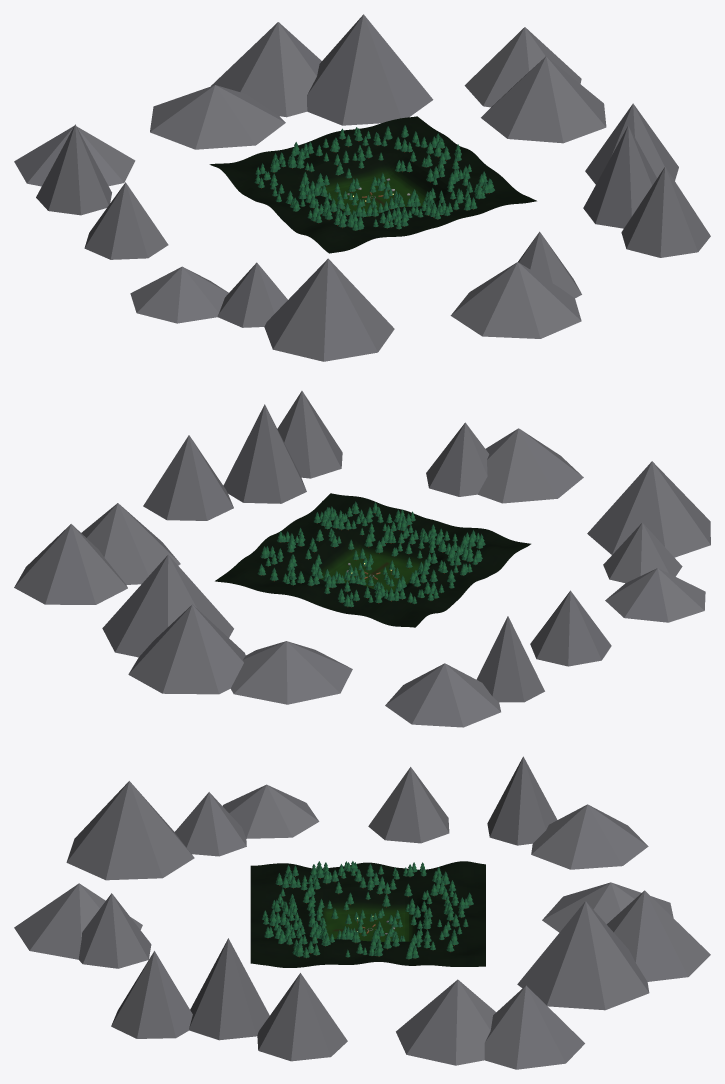
The model's file is camp.glb.
3 views of the same model, one above another, from view 1: azimuth 30°, elevation 25°; view 2: azimuth 150°, elevation 25°; view 3: azimuth 270°, elevation 25° (orthographic). The views are drawn at different scales.
Parts seen in each view (by area): view 1: rockDark, terrain, pine1, pine2; view 2: rockDark, terrain, pine1, pine2; view 3: rockDark, terrain, pine1, pine2.
Boxes of the visible parts, left/top/right/bottom form: rockDark: left=14, top=14, right=710, bottom=361; terrain: left=209, top=116, right=536, bottom=253; pine1: left=254, top=125, right=494, bottom=230; pine2: left=255, top=129, right=493, bottom=227; rockDark: left=14, top=391, right=710, bottom=727; terrain: left=215, top=493, right=530, bottom=627; pine1: left=257, top=501, right=485, bottom=606; pine2: left=258, top=505, right=484, bottom=604; rockDark: left=14, top=756, right=710, bottom=1069; terrain: left=250, top=861, right=485, bottom=967; pine1: left=262, top=861, right=473, bottom=959; pine2: left=262, top=864, right=472, bottom=955.
Size of the model in its own units: 252 by 35.93 by 271.
